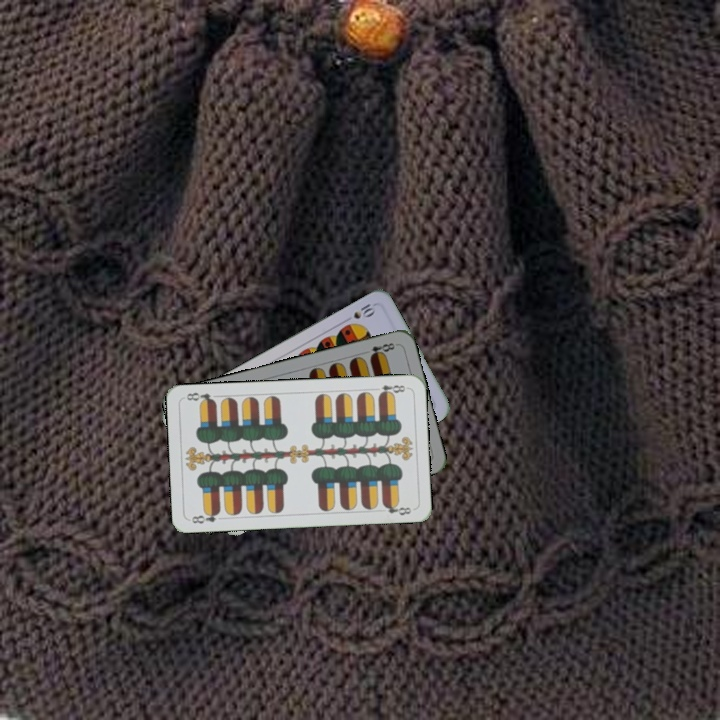E8: (366, 339, 399, 361), (369, 381, 410, 398), (188, 507, 223, 526)
S10: (349, 299, 378, 322)
